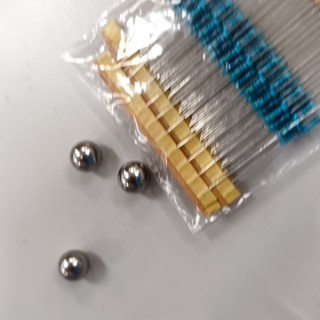ironball: (48, 242, 101, 282), (62, 132, 103, 183), (109, 153, 148, 199)
